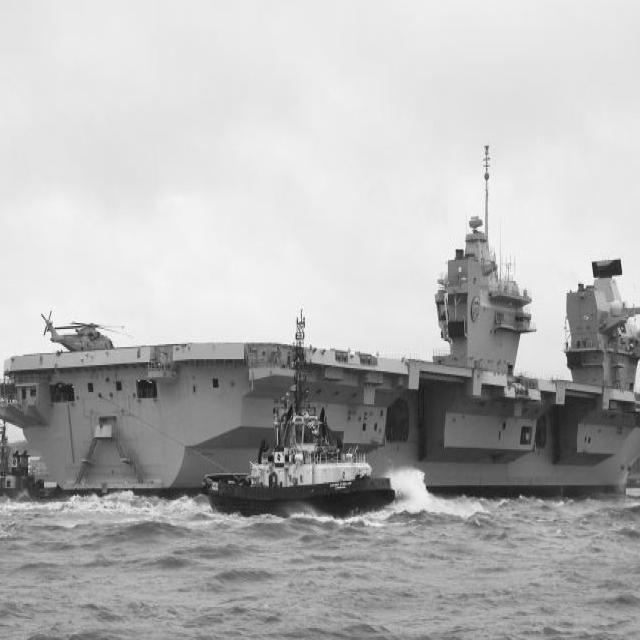Portanaves: (1, 202, 640, 509)
